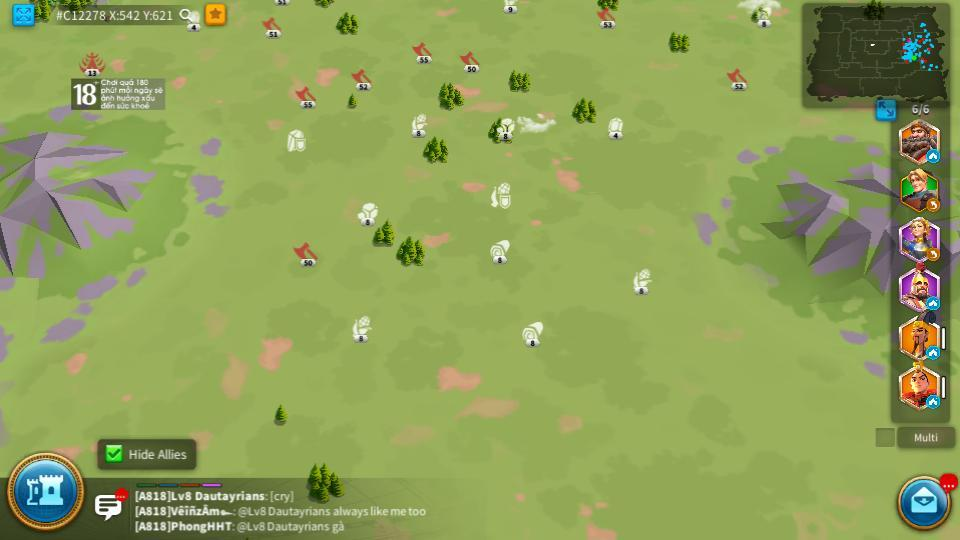gem-z-out: (607, 118, 625, 138)
march_idle: (926, 395, 940, 407), (926, 298, 940, 309), (927, 151, 940, 162), (927, 347, 940, 357)
march_returning: (926, 248, 941, 261), (927, 201, 941, 212)
